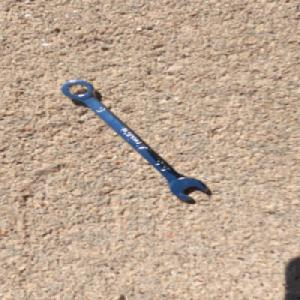Wrench: (60, 79, 210, 201)
